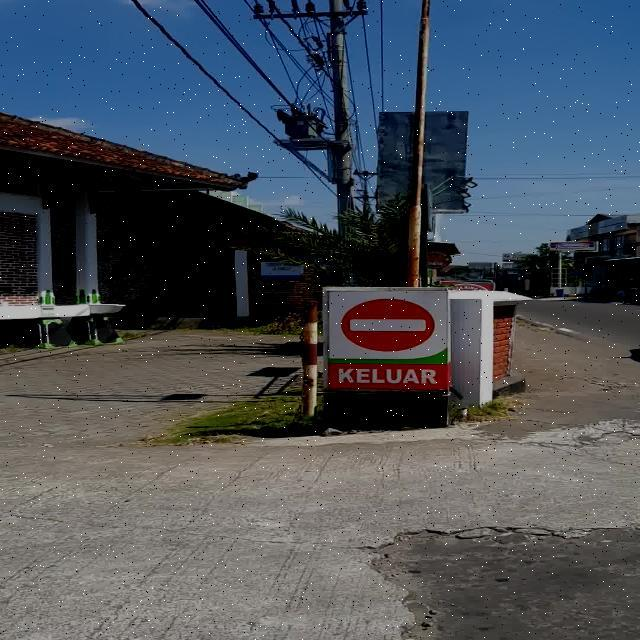Dilarang Masuk: (342, 298, 434, 352)
